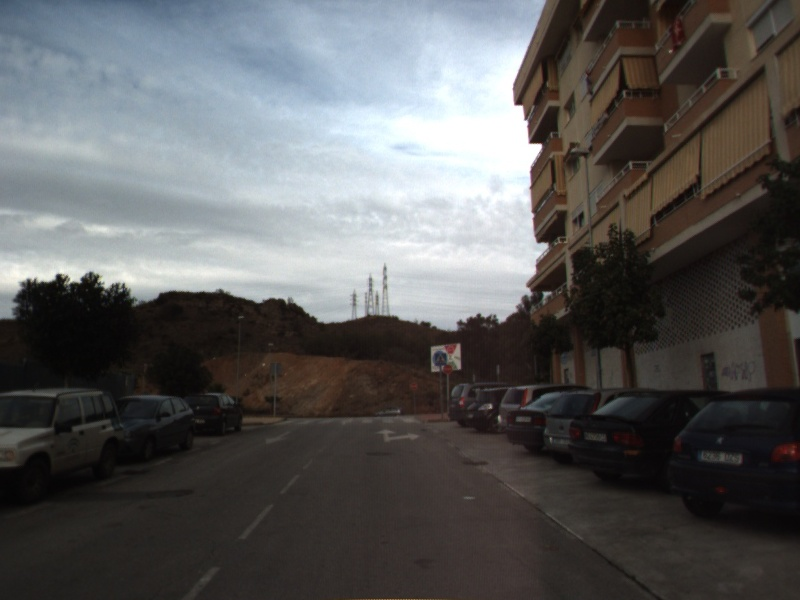STRAIGHT_RIGHT: (373, 427, 423, 444)
